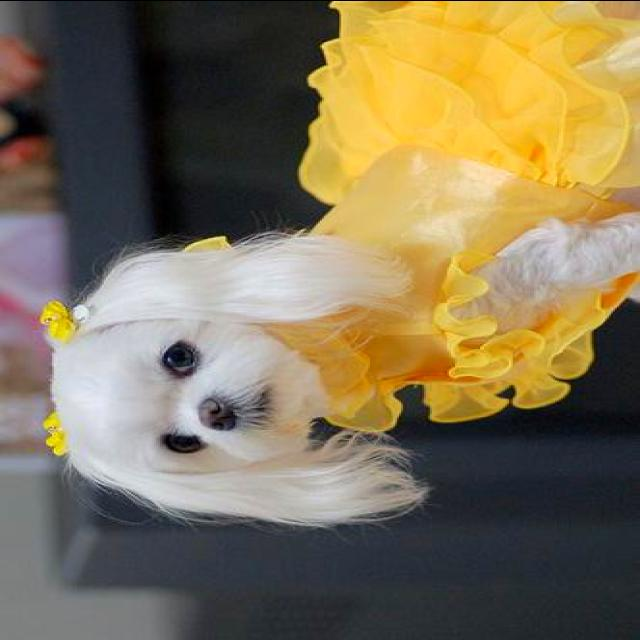maltese_dog: (42, 1, 638, 534)
